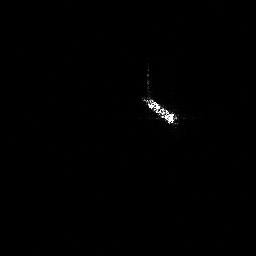ship: (139, 92, 183, 129)
